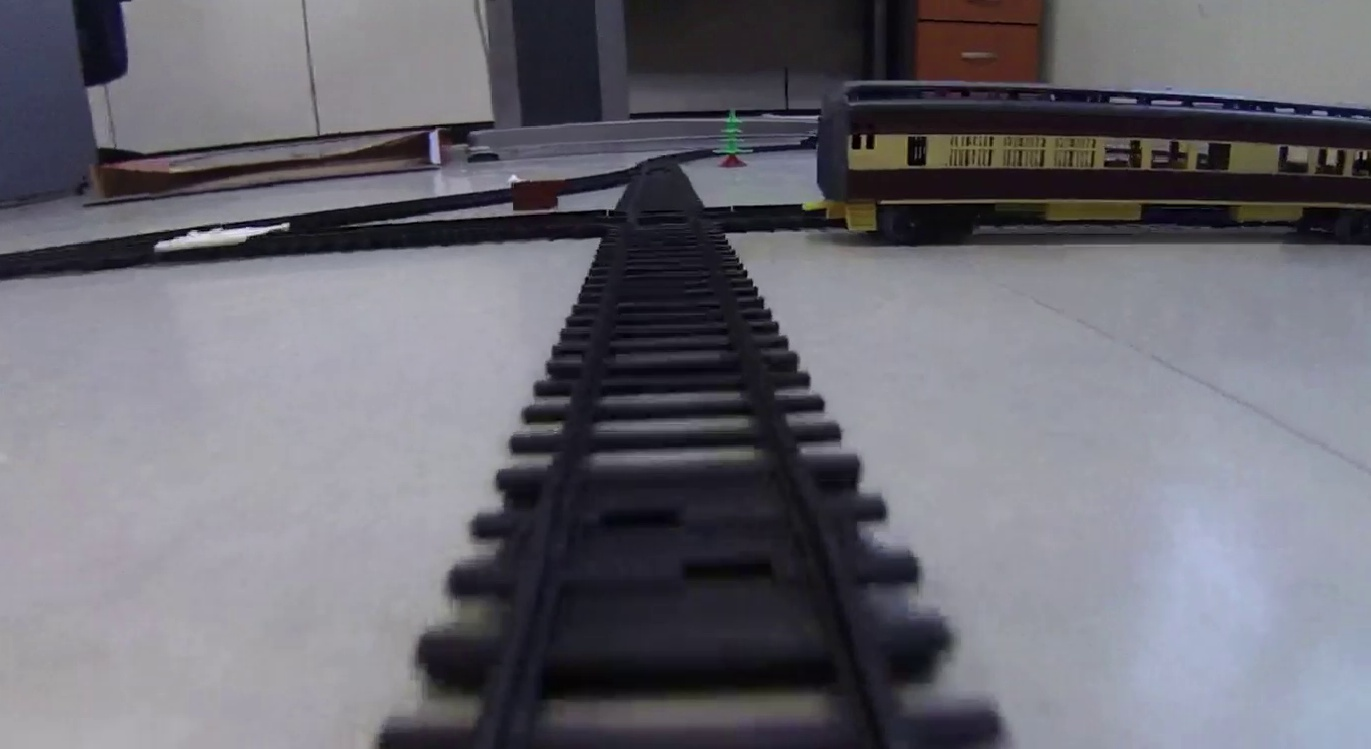box: (513, 178, 559, 208)
tree: (711, 111, 754, 170)
